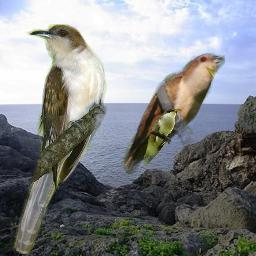Cuckoo: (14, 24, 107, 254), (119, 53, 225, 177), (142, 108, 181, 166)
